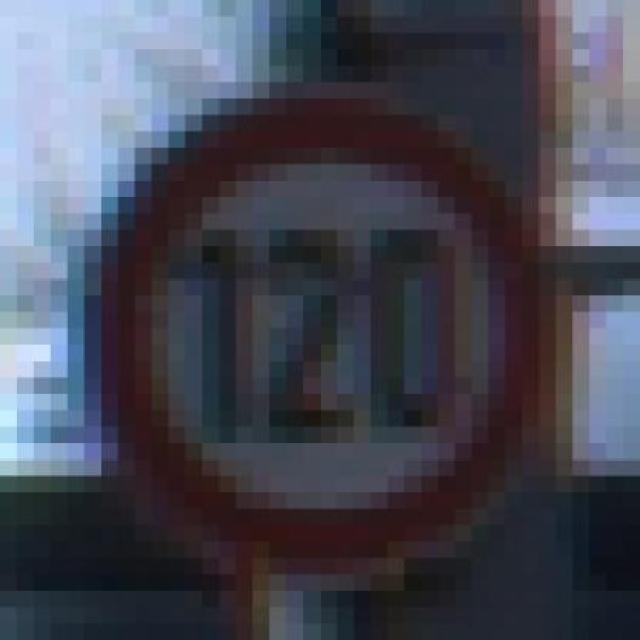forb_speed_over_120: (94, 99, 543, 566)
